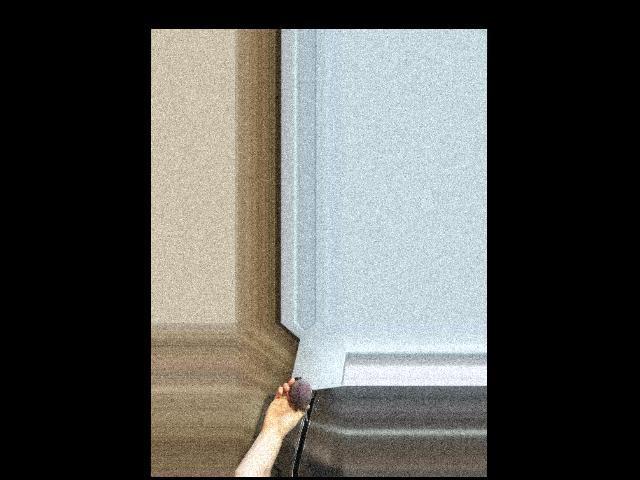beet: (290, 376, 311, 420)
